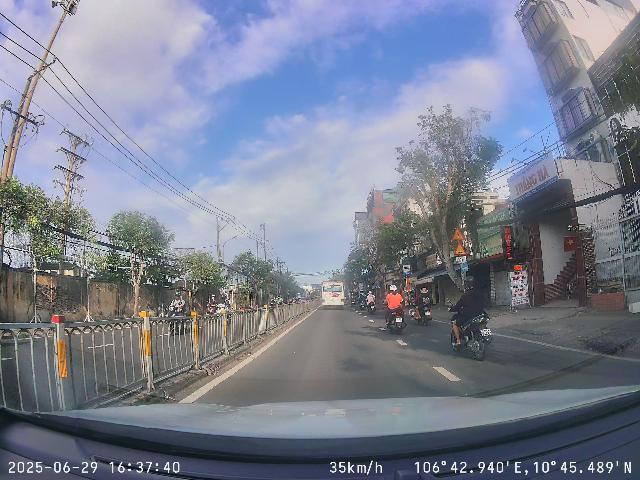221-duong-go-ghe: (454, 242, 467, 256)
224-duong-nguoi-di-bo-cat-ngang: (452, 227, 465, 240)
